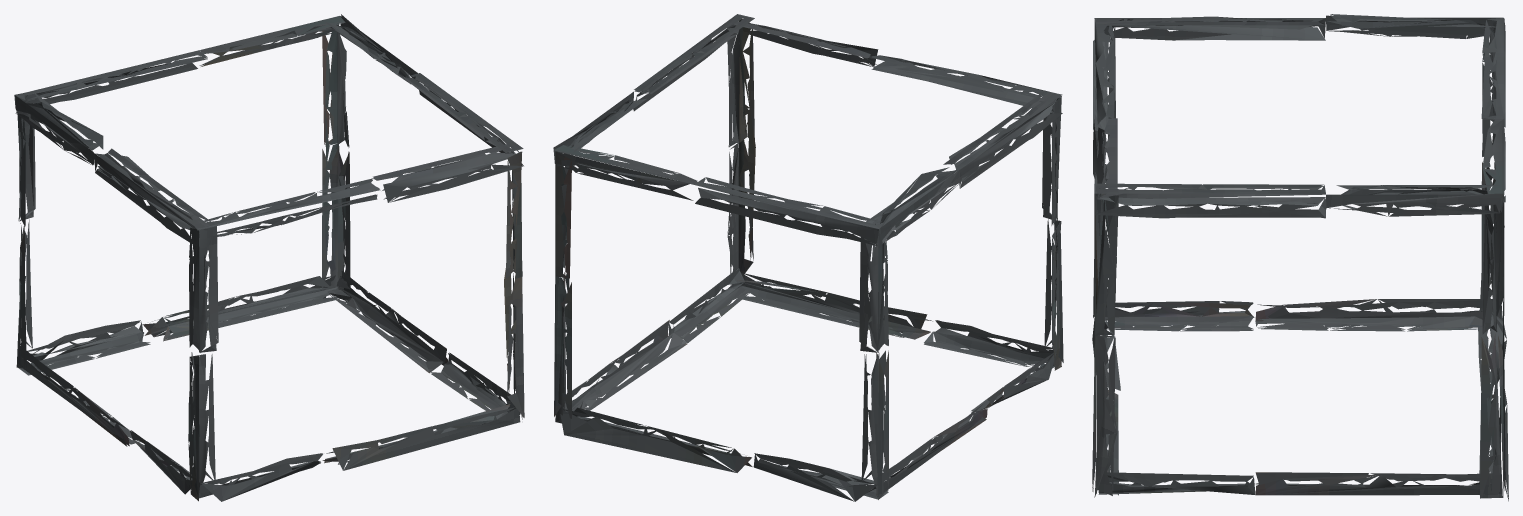
The model's file is industrial_coffee_table.glb.
The picture shows the model from 3 angles, left to right: view 1: azimuth 30°, elevation 25°; view 2: azimuth 150°, elevation 25°; view 3: azimuth 270°, elevation 25°; orthographic projection. The views are drawn at different scales.
Parts seen in each view (by area): view 1: industrial_coffee_table; view 2: industrial_coffee_table; view 3: industrial_coffee_table.
Boxes of the visible parts, x1,y1,x2,y2 form: industrial_coffee_table: (14,14,524,501); industrial_coffee_table: (553,14,1063,501); industrial_coffee_table: (1092,14,1508,501).
Bounding box in the file's own units: 0.7636 × 0.6314 × 0.753.
Materials: 1 (1 with a texture image).
